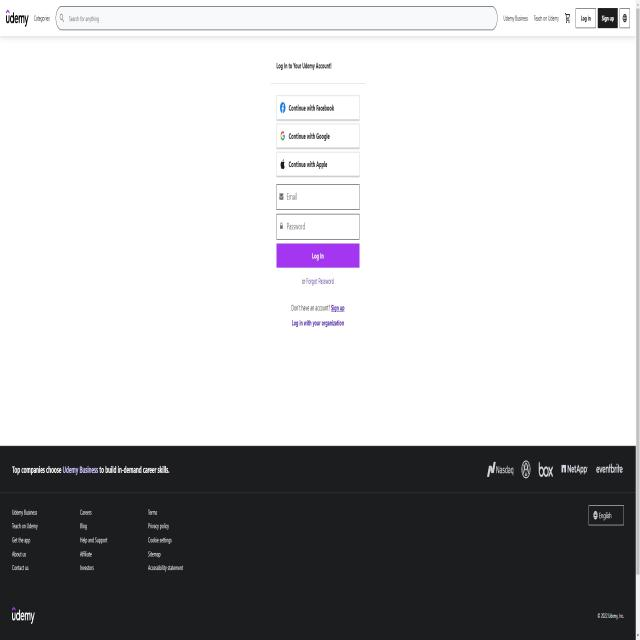menu-bar: (500, 6, 630, 34)
search: (52, 2, 498, 31)
